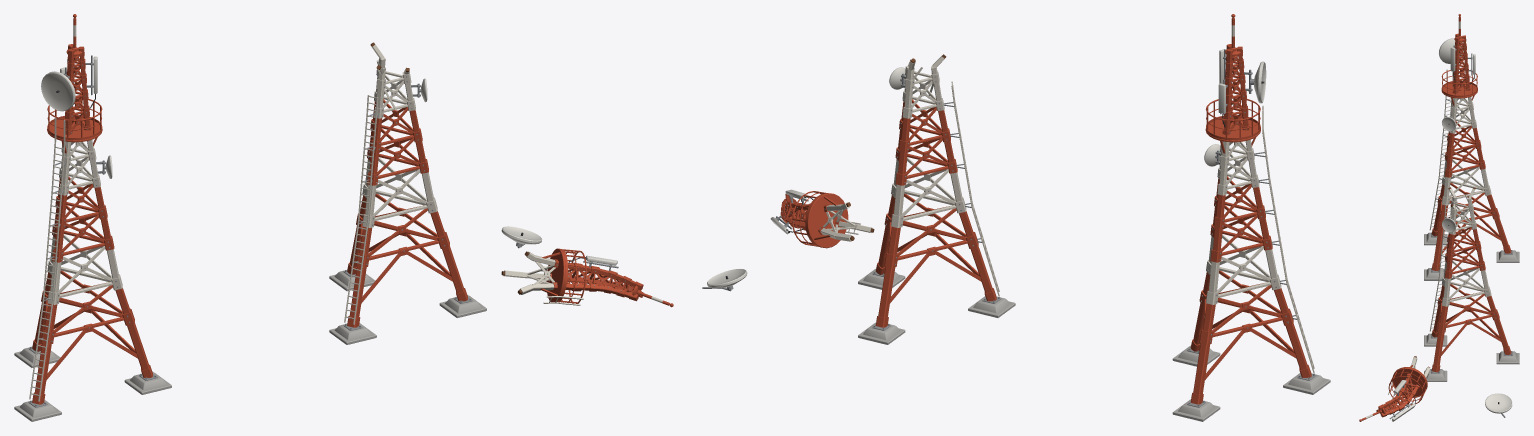
File: RadioTower.fbx
The picture shows the model from 3 angles, left to right: view 1: azimuth 30°, elevation 25°; view 2: azimuth 150°, elevation 25°; view 3: azimuth 270°, elevation 25°; orthographic projection. The views are drawn at different scales.
Visible parts, largest first — view 1: RadioTower_Broken_Mesh, RadioTower_Mesh; view 2: RadioTower_Mesh, RadioTower_Broken_Mesh; view 3: RadioTower_Broken_Mesh, RadioTower_Mesh.
Part boxes in pixels (x1,y1,x2,y2): RadioTower_Broken_Mesh: (329,42,673,344); RadioTower_Mesh: (14,14,171,421); RadioTower_Mesh: (1172,14,1330,421); RadioTower_Broken_Mesh: (702,54,1015,344); RadioTower_Broken_Mesh: (1359,187,1519,421); RadioTower_Mesh: (1424,14,1519,280).
Size of the model in its own units: 30.15 by 18 by 10.73.
